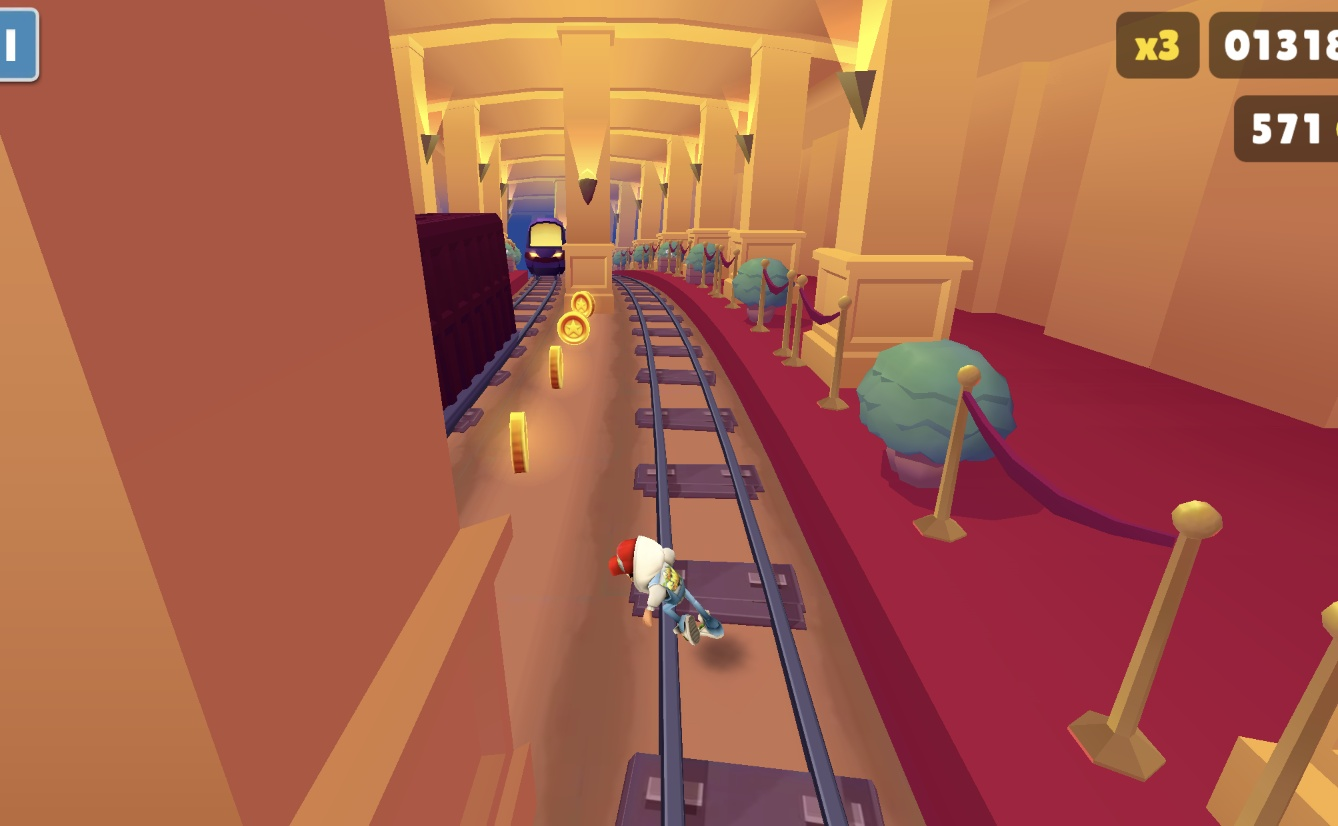pillar: (0, 0, 507, 826), (562, 67, 617, 327)
train: (422, 210, 519, 422), (502, 215, 562, 284)
